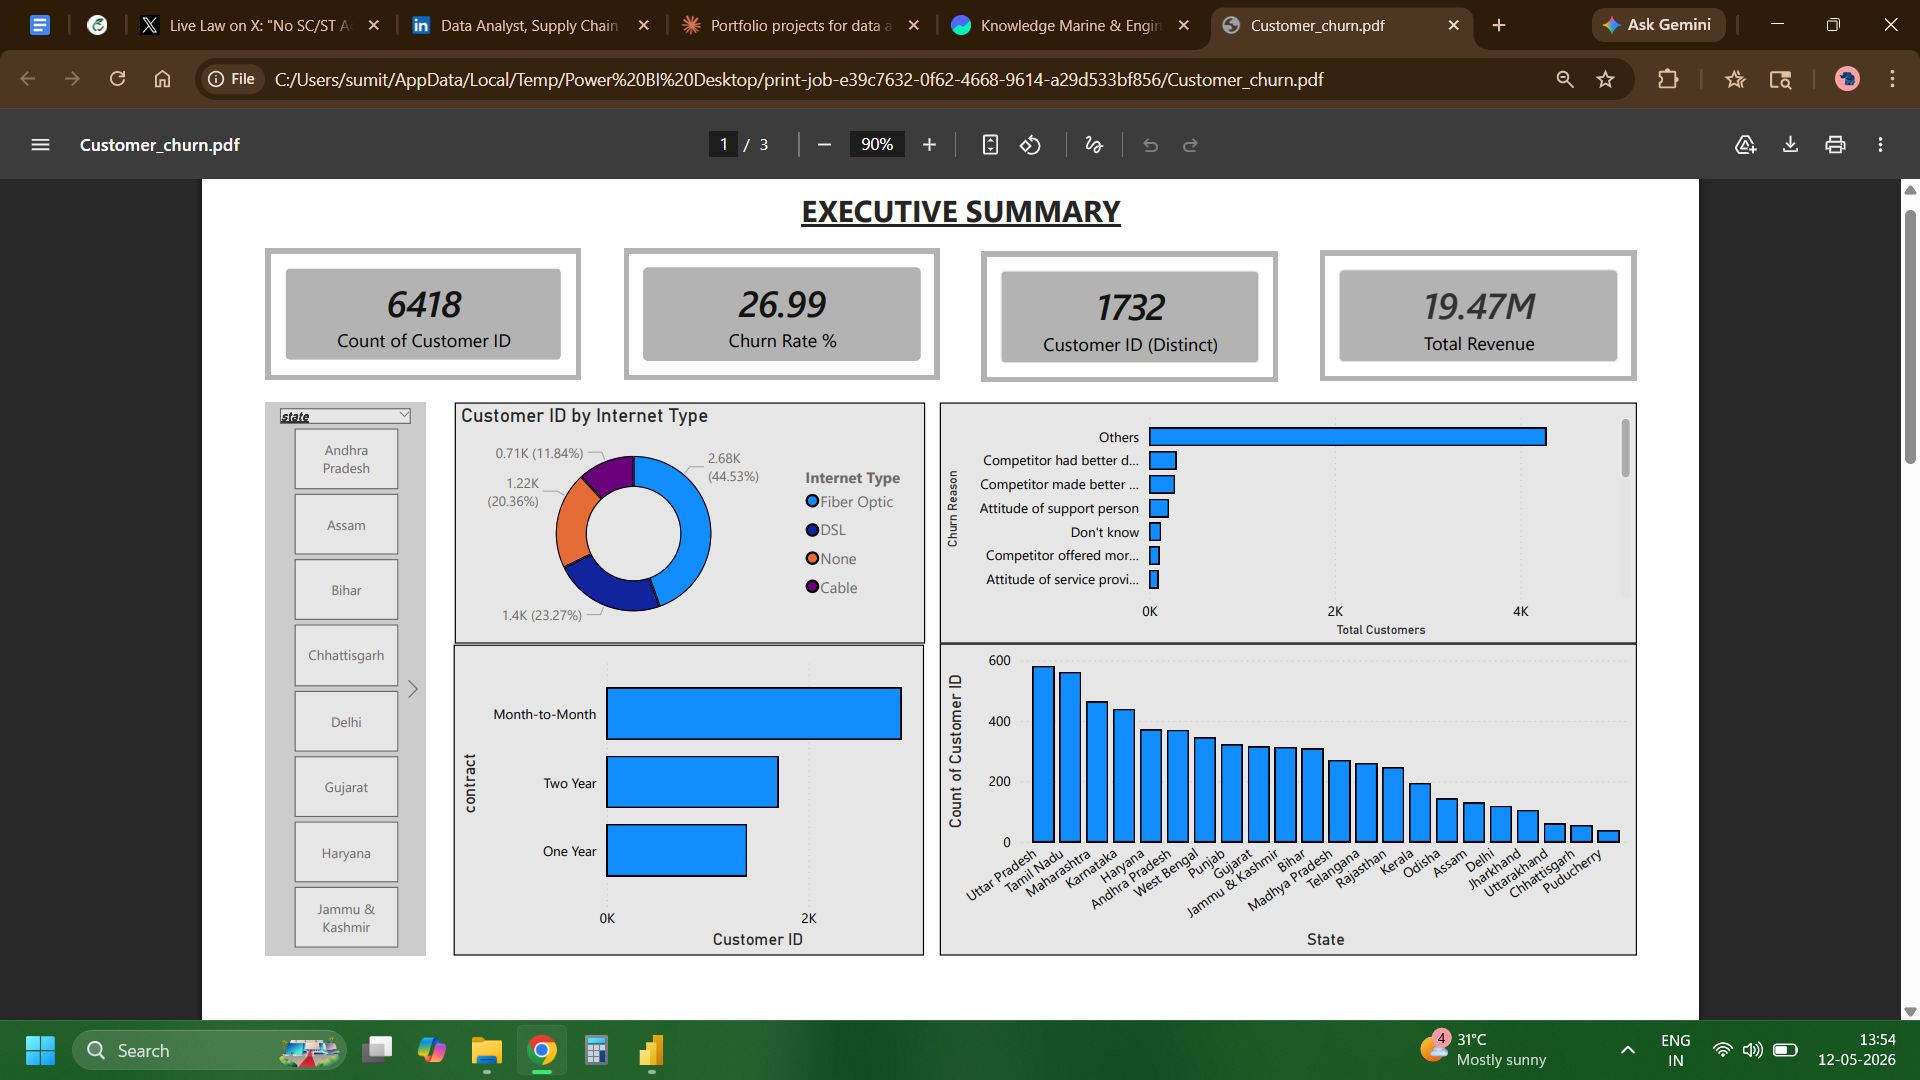

The page's visual inventory and layout, read from the dashboard file:
{"tool":"powerbi","page":{"name":"Executive Summary","canvas":[1280,720],"ordinal":0},"visuals":[{"type":"cardVisual","fields":{"Data":["Count(prod_churn.customer_id)"]},"box":[33,57.5,280,116.2],"z":0},{"type":"cardVisual","fields":{"Data":["Count(prod_churn.customer_id)"]},"box":[667.7,59.9,262.9,116.2],"z":1000},{"type":"cardVisual","fields":{"Data":["churn_data.Churn Rate %"]},"box":[351,57.5,280,116.2],"z":2000},{"type":"cardVisual","fields":{"Data":["Sum(prod_churn.total_revenue)"]},"box":[968.5,58.7,280,116.2],"z":3000},{"type":"barChart","fields":{"Category":["churn_data.contract"],"Y":["Count(churn_data.customer_id)"]},"box":[200.3,408.9,417.2,275.8],"z":4000},{"type":"donutChart","fields":{"Category":["churn_data.internet_type"],"Y":["Count(churn_data.customer_id)"]},"box":[200.5,194.4,417,214],"z":5000},{"type":"barChart","fields":{"Category":["churn_data.churn_reason"],"Y":["Count(churn_data.customer_id)"]},"box":[631,194.4,617.5,214],"z":6000},{"type":"clusteredColumnChart","fields":{"Category":["churn_data.state"],"Y":["Count(churn_data.customer_id)"]},"box":[631,408.4,617.5,276.4],"z":7000},{"type":"textbox","box":[500.1,0,299.6,46.5],"z":8000},{"type":"slicer","fields":{"Values":["prod_churn.state"]},"box":[33,194.4,141.8,490.4],"z":9000}]}

Visuals, with their boxes on the page's 1280x720 design canvas (x1, y1, x2, y2). These are canvas units, not pixel positions in the 1920x1080 screenshot, which may show the page scaled, cropped or inside an application window:
cardVisual - Count(prod_churn.customer_id): <box>33,58,313,174</box>
cardVisual - Count(prod_churn.customer_id): <box>668,60,931,176</box>
cardVisual - churn_data.Churn Rate %: <box>351,58,631,174</box>
cardVisual - Sum(prod_churn.total_revenue): <box>968,59,1248,175</box>
barChart - churn_data.contract x Count(churn_data.customer_id): <box>200,409,618,685</box>
donutChart - churn_data.internet_type x Count(churn_data.customer_id): <box>200,194,618,408</box>
barChart - churn_data.churn_reason x Count(churn_data.customer_id): <box>631,194,1248,408</box>
clusteredColumnChart - churn_data.state x Count(churn_data.customer_id): <box>631,408,1248,685</box>
textbox: <box>500,0,800,46</box>
slicer - prod_churn.state: <box>33,194,175,685</box>
